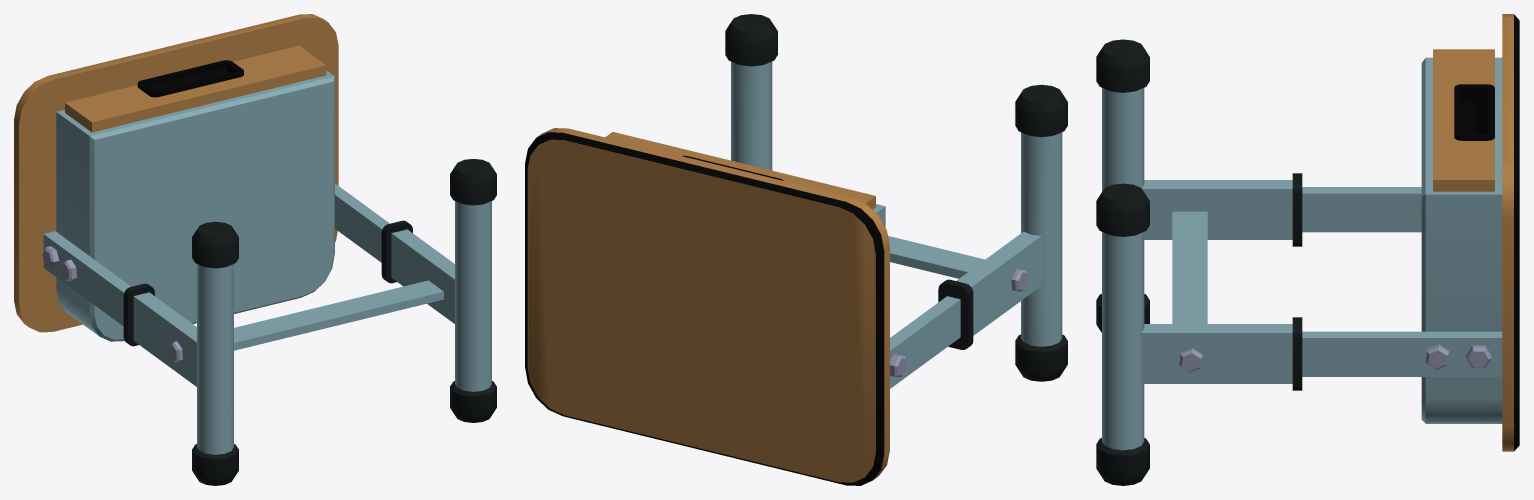
The model's file is Desk_02.fbx.
3 views of the same model, side by side, from view 1: azimuth 30°, elevation 25°; view 2: azimuth 150°, elevation 25°; view 3: azimuth 270°, elevation 25° (orthographic). The views are drawn at different scales.
Visible parts, largest first — view 1: Desk_top, Desk, Drawer; view 2: Desk_top, Desk, Drawer; view 3: Desk, Desk_top, Drawer.
Part boxes in pixels (<box>): Desk_top: <box>14,14,389,341</box>; Desk: <box>123,159,496,485</box>; Drawer: <box>65,45,326,132</box>; Desk_top: <box>525,128,960,485</box>; Desk: <box>725,14,1067,381</box>; Drawer: <box>605,132,875,209</box>; Desk: <box>1096,39,1302,485</box>; Desk_top: <box>1302,14,1519,451</box>; Drawer: <box>1433,49,1494,191</box>.
Bounding box in the file's own units: 0.7476 × 0.6185 × 0.75.
